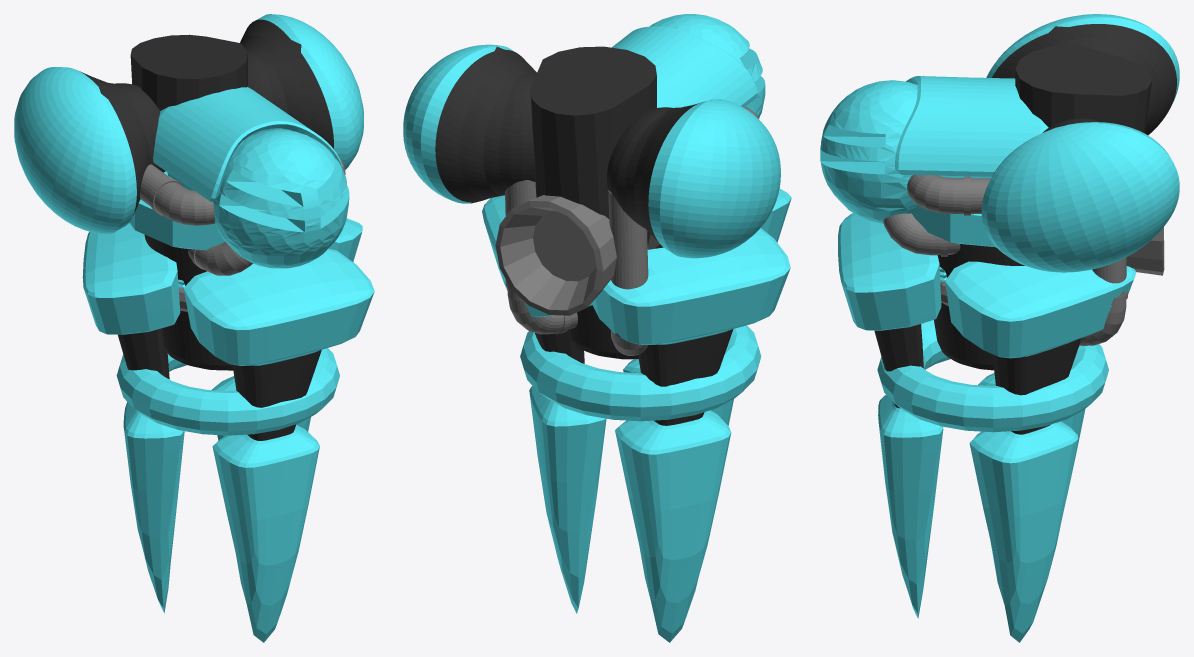
Rendered from Turret_Space.fbx.
3 views of the same model, side by side, from view 1: azimuth 30°, elevation 25°; view 2: azimuth 150°, elevation 25°; view 3: azimuth 270°, elevation 25° (orthographic). The views are drawn at different scales.
Visible parts, largest first — view 1: Cube, Sphere.001, Cube.002, Head Evil, Cylinder.002, Sphere.000, Torus.001, Cylinder.003, Cube.003, Cylinder.004, Cylinder.001, Cylinder.007 (+3 smaller); view 2: Cube.002, Sphere.001, Sphere.000, Cylinder.003, Cylinder.000, Torus.001, Cube.001, Cylinder.002, Cube.005, Cylinder.008, Head Evil, Cylinder.009 (+3 smaller); view 3: Cube.001, Sphere.001, Cube, Cylinder.002, Torus.001, Head Evil, Cylinder.003, Sphere.000, Cube.004, Cylinder.004, Cylinder.005, Cylinder.007 (+5 smaller).
Boxes of the visible parts, x1,y1,x2,y2 form: Cube: (183,248,374,642); Sphere.001: (14,14,363,233); Cube.002: (82,223,184,613); Head Evil: (213,130,349,268); Cylinder.002: (153,87,342,201); Sphere.000: (79,19,333,215); Torus.001: (116,348,339,435); Cylinder.003: (130,34,247,110); Cube.003: (232,350,321,440); Cylinder.004: (144,234,233,370); Cylinder.001: (140,164,215,225); Cylinder.007: (129,171,225,250); Cube.002: (591,228,790,642); Sphere.001: (403,44,780,258); Sphere.000: (435,46,699,242); Cylinder.003: (530,46,656,218); Cylinder.000: (495,195,616,315); Torus.001: (520,325,761,421); Cube.001: (482,195,606,613); Cylinder.002: (612,26,757,107); Cube.005: (638,329,733,425); Cylinder.008: (608,190,648,355); Head Evil: (649,14,765,118); Cylinder.009: (505,180,577,334); Cube.001: (945,261,1136,642); Sphere.001: (981,14,1179,272); Cube: (838,213,946,618); Cylinder.002: (895,76,1048,178); Torus.001: (877,320,1108,432); Head Evil: (820,80,917,223); Cylinder.003: (1015,44,1152,133); Sphere.000: (992,24,1176,135); Cube.004: (992,338,1080,434); Cylinder.004: (934,244,1024,370); Cylinder.005: (907,175,990,215); Cylinder.007: (912,205,995,247).
Bounding box in the file's own units: 528 × 853 × 504.
